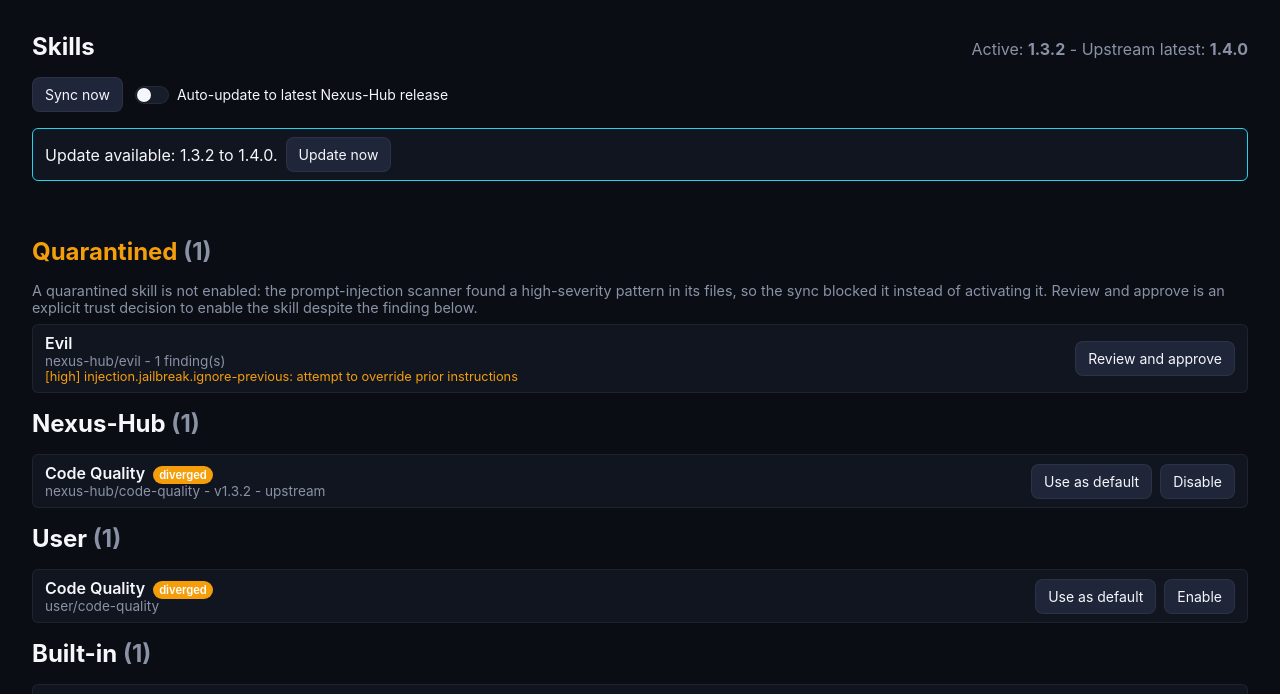
Test: SkillsSettings › Sync now with quarantined skills still shows Synced, not blocked
The width and height of the screenshot is (1280, 694).
Click the button with test id "skills-sync-now" at (77, 94), box x1=32 y1=77 x2=123 y2=112
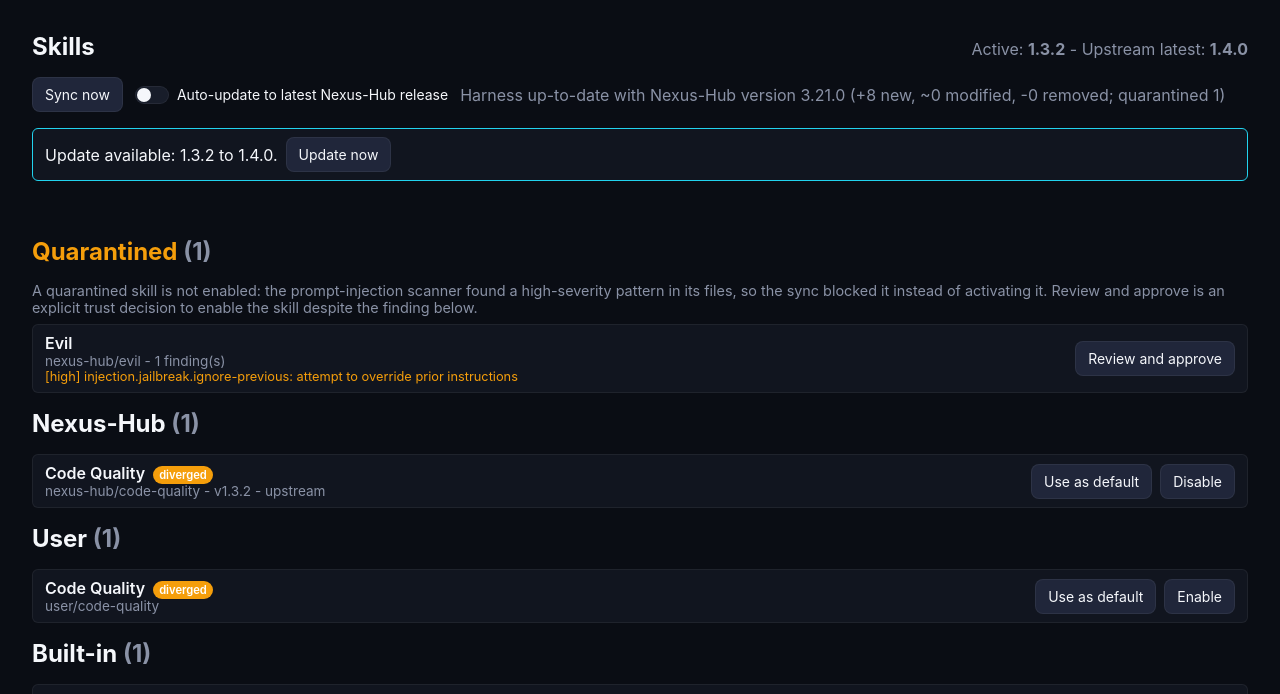
Expected: the text with test id "skills-sync-status" shows "Harness up-to-date with Nexus-Hub version 3.21.0", x1=460 y1=84 x2=1225 y2=104
Expected: the text with test id "skills-sync-status" shows "quarantined 1", x1=460 y1=84 x2=1225 y2=104
